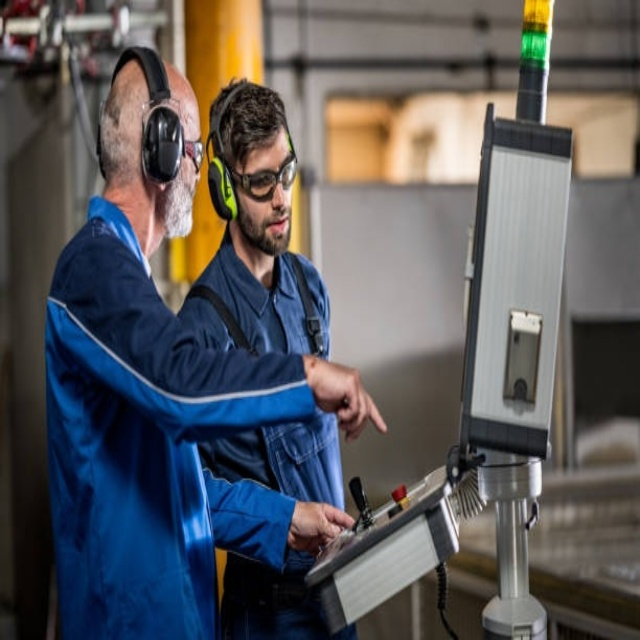Gafas: (225, 136, 299, 202), (182, 137, 204, 174)
Sin_guantes: (310, 356, 387, 439), (287, 498, 357, 560)
Sin_mascara: (175, 176, 201, 234), (265, 207, 294, 242)
